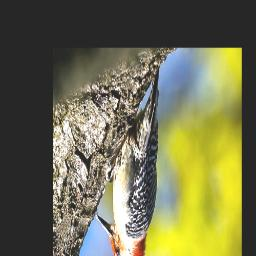Woodpecker: (94, 70, 159, 256)
